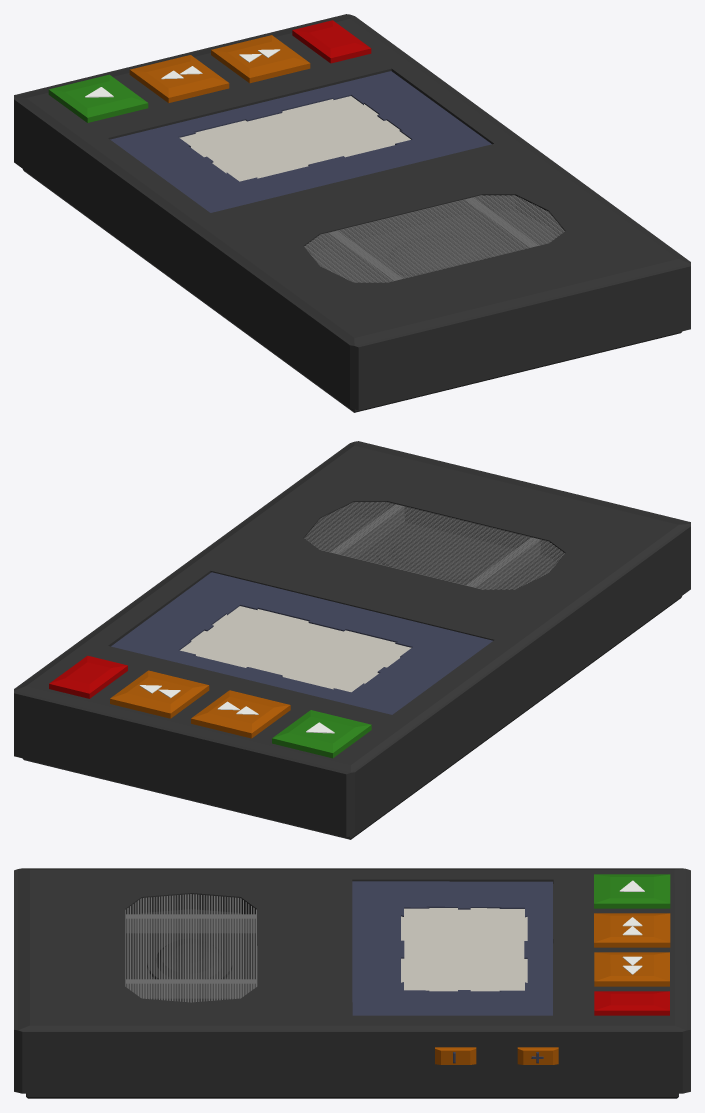
Rendered from Player.fbx.
The picture shows the model from 3 angles, top to bottom: view 1: azimuth 30°, elevation 25°; view 2: azimuth 150°, elevation 25°; view 3: azimuth 270°, elevation 25°; orthographic projection.
Visible parts, largest first — view 1: PlayerBody, CapBody, Lattice, Glass, PlayButton, RightSkipButton, LeftSkipButton, Speaker, Support, OpenBoxButton; view 2: PlayerBody, CapBody, Lattice, Glass, PlayButton, RightSkipButton, LeftSkipButton, Speaker, Support, OpenBoxButton; view 3: PlayerBody, CapBody, Glass, Lattice, Support, Speaker, PlayButton, RightSkipButton, LeftSkipButton, OpenBoxButton, DecreaseVolumeButton, IncreaseVolumeButton.
Part boxes in pixels (box(x1,y1,x2,y2)): PlayerBody: box(14, 14, 690, 412); CapBody: box(110, 71, 491, 212); Lattice: box(304, 195, 564, 282); Glass: box(179, 96, 410, 181); PlayButton: box(48, 74, 148, 122); RightSkipButton: box(129, 55, 229, 103); LeftSkipButton: box(211, 35, 310, 83); Speaker: box(376, 231, 493, 276); Support: box(329, 198, 538, 282); OpenBoxButton: box(292, 20, 371, 63); PlayerBody: box(14, 441, 690, 839); CapBody: box(111, 572, 492, 714); Lattice: box(304, 502, 564, 589); Glass: box(180, 606, 411, 692); PlayButton: box(272, 710, 371, 758); RightSkipButton: box(191, 690, 290, 738); LeftSkipButton: box(110, 670, 209, 718); Speaker: box(376, 537, 493, 581); Support: box(331, 504, 540, 589); OpenBoxButton: box(49, 655, 127, 698); PlayerBody: box(14, 868, 690, 1098); CapBody: box(352, 881, 552, 1015); Glass: box(401, 908, 527, 991); Lattice: box(125, 894, 257, 1002); Support: box(126, 914, 255, 998); Speaker: box(147, 934, 232, 979); PlayButton: box(594, 874, 670, 908); RightSkipButton: box(594, 913, 670, 947); LeftSkipButton: box(594, 952, 669, 986); OpenBoxButton: box(594, 991, 669, 1015); DecreaseVolumeButton: box(435, 1047, 476, 1064); IncreaseVolumeButton: box(517, 1047, 558, 1064).
Bounding box in the file's own units: 4077 × 913 × 7000.
